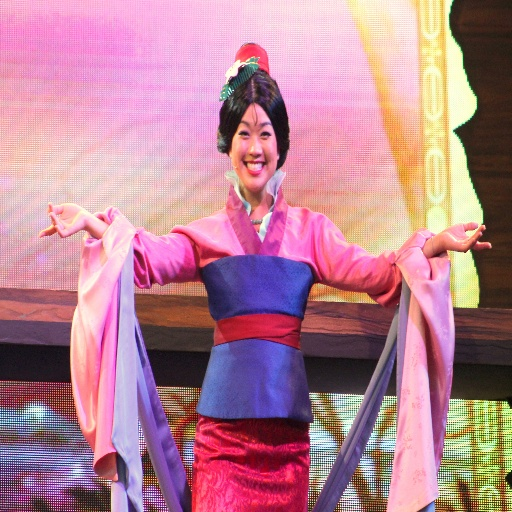hand: (30, 198, 114, 258), (433, 217, 492, 253)
